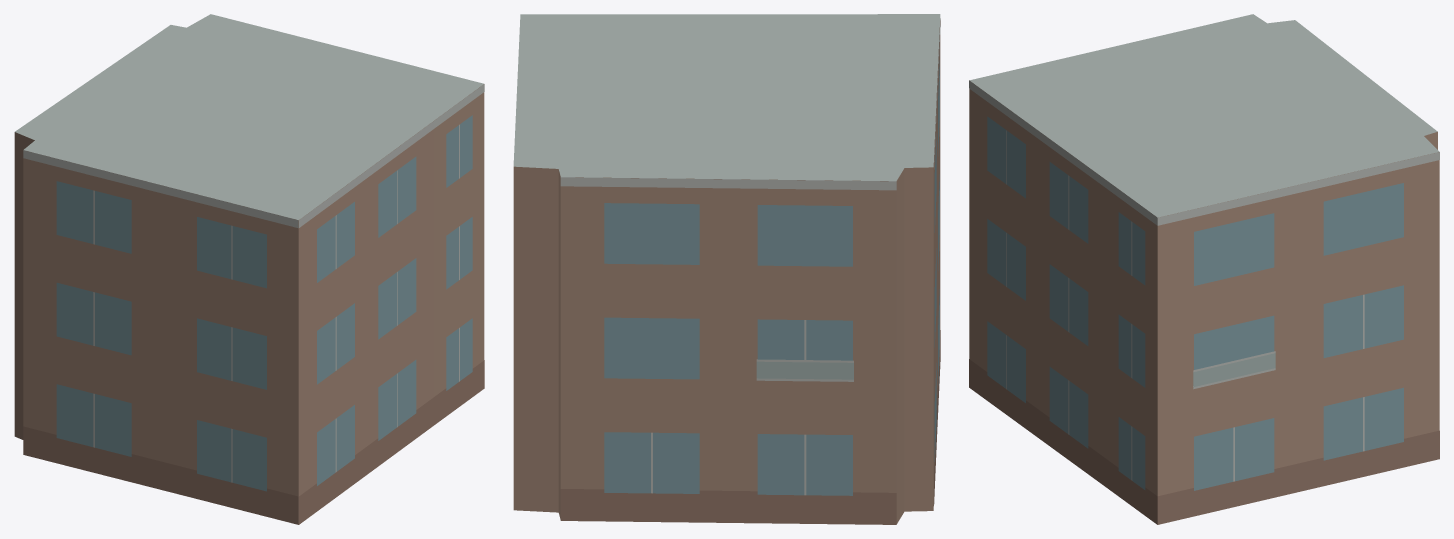
Rendered from survey-upis-32610117.glb.
3 views of the same model, side by side, from view 1: azimuth 30°, elevation 25°; view 2: azimuth 150°, elevation 25°; view 3: azimuth 270°, elevation 25° (orthographic). The views are drawn at different scales.
Visible parts, largest first — view 1: survey-upis-32610117.tmp; view 2: survey-upis-32610117.tmp; view 3: survey-upis-32610117.tmp.
Boxes of the visible parts, x1,y1,x2,y2 form: survey-upis-32610117.tmp: (14,14,484,524); survey-upis-32610117.tmp: (513,14,940,524); survey-upis-32610117.tmp: (969,14,1439,524).
Size of the model in its own units: 13.01 by 9.15 by 12.71.
